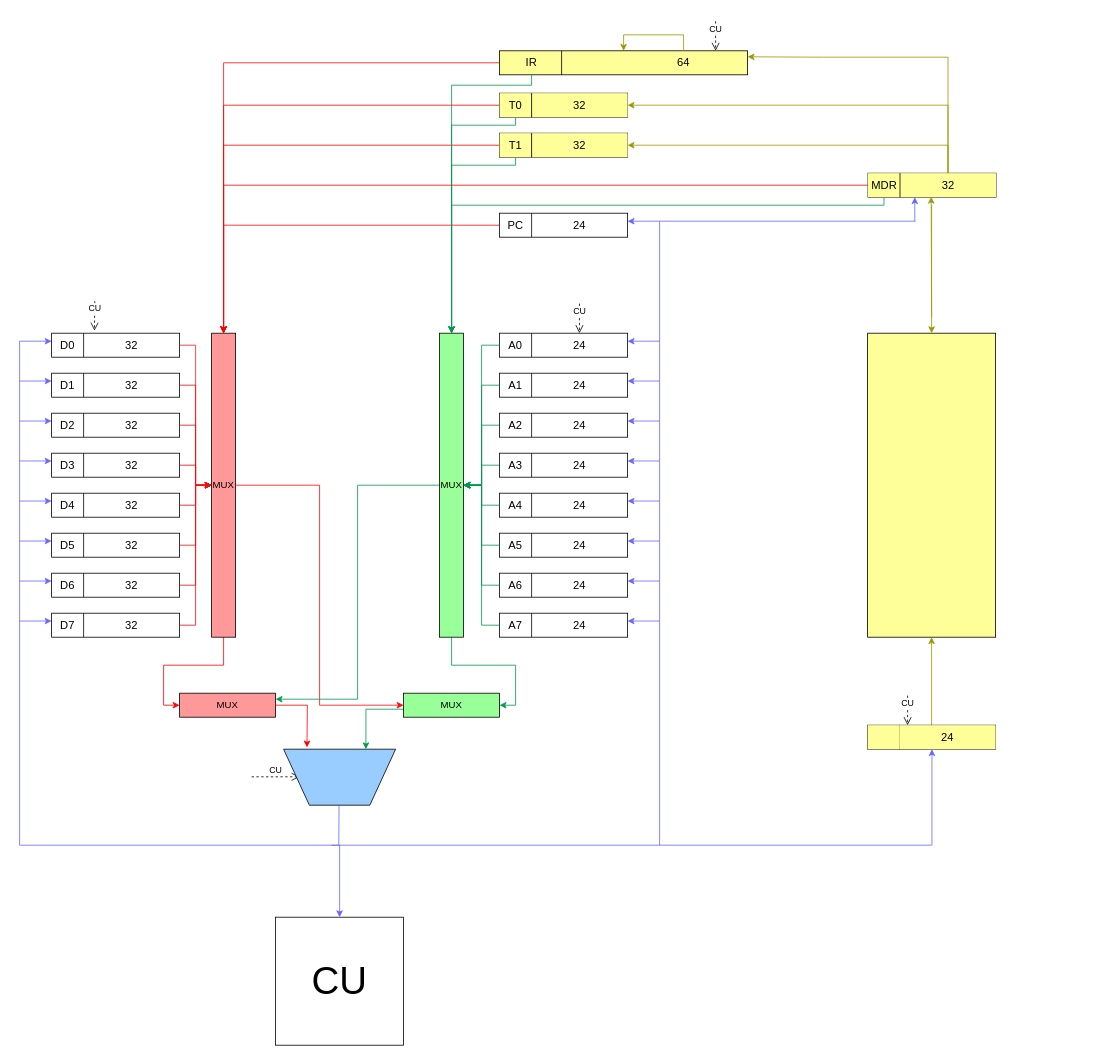
This 1106x1059 diagram has some shape labels left out. The shapes that lost their labels are listed below. From the top down, each one's box as (x1, y1, x2, y2) in pixels, then its label:
(499, 50, 748, 75): (Shift buffer)
(867, 332, 996, 637): MEM 32
(867, 725, 899, 749): AR
(283, 748, 396, 805): АЛУ
